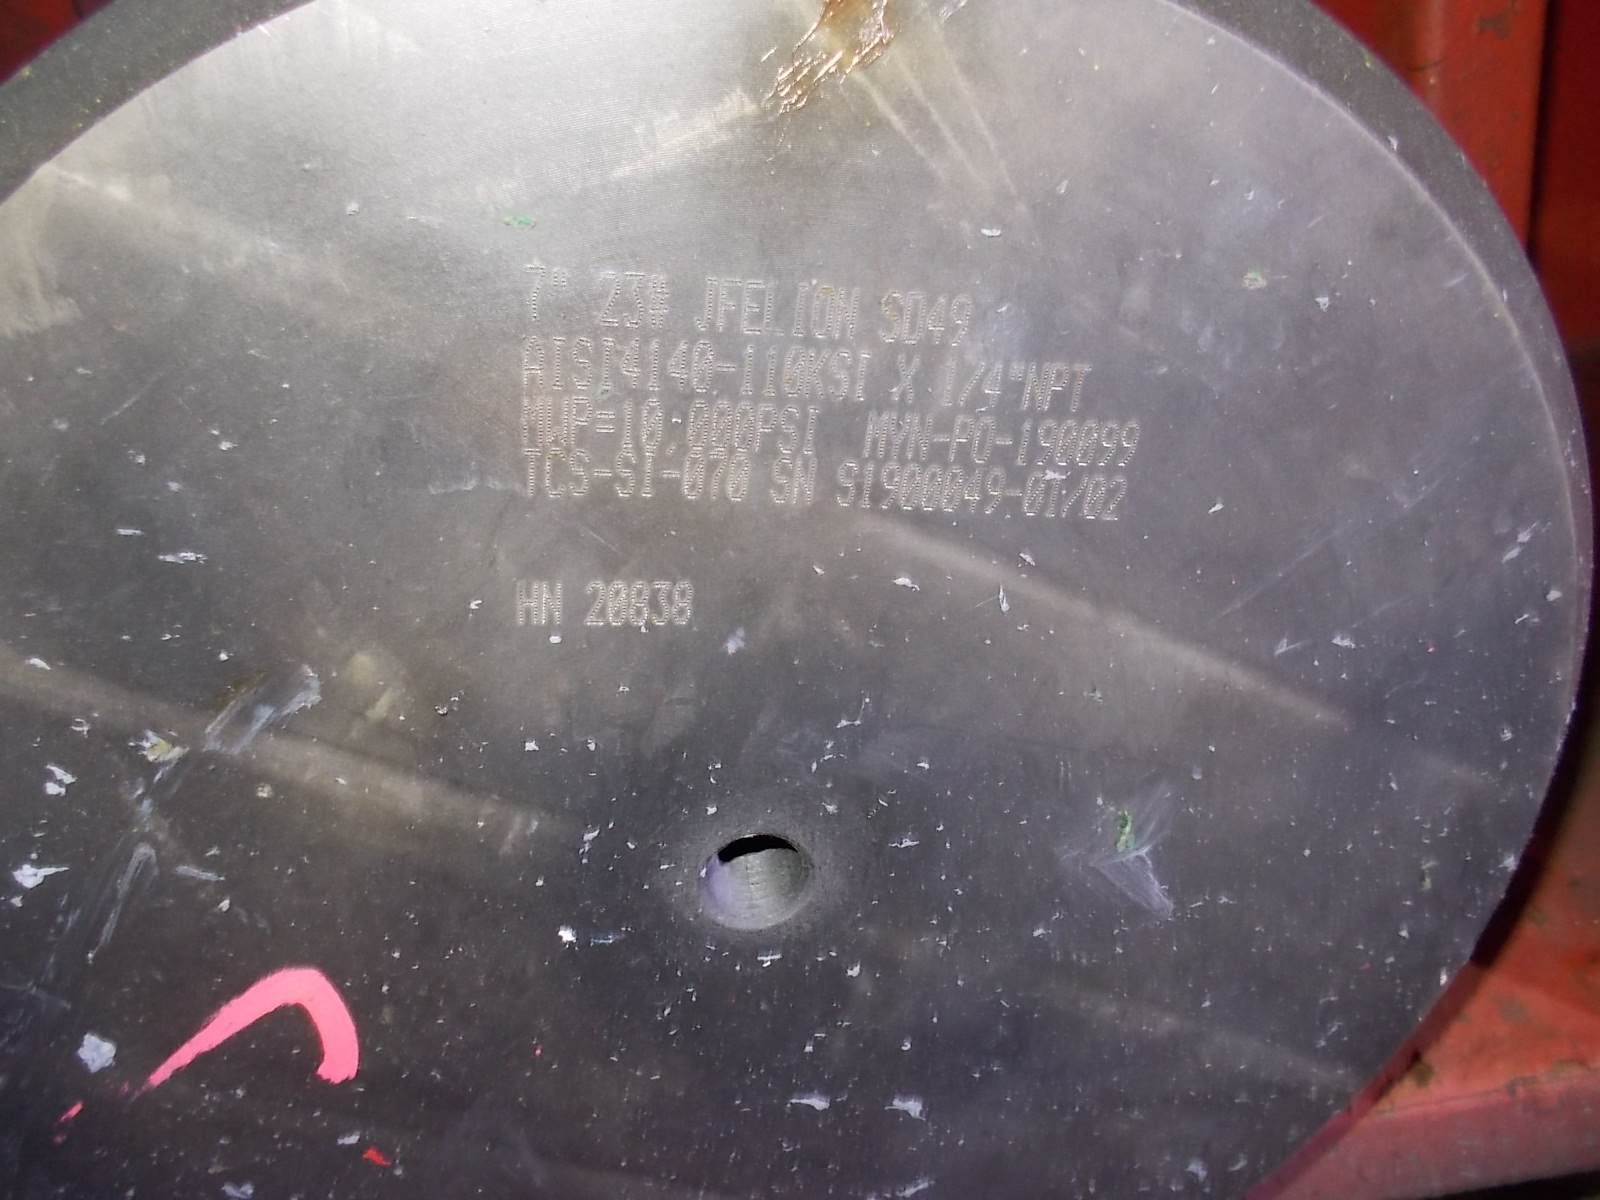character: (887, 350, 925, 408), (590, 267, 622, 329), (947, 287, 976, 355), (518, 332, 547, 392), (763, 276, 791, 339), (876, 284, 902, 349), (634, 395, 666, 447), (661, 338, 692, 395), (520, 261, 546, 326), (690, 270, 716, 335), (716, 274, 742, 335), (837, 284, 863, 345), (809, 284, 837, 342), (970, 413, 1000, 466), (859, 408, 889, 460), (648, 270, 673, 332), (1068, 361, 1096, 416), (792, 456, 821, 509), (1019, 359, 1048, 412), (569, 332, 593, 395), (622, 270, 648, 329), (1060, 473, 1090, 522), (902, 287, 926, 349), (926, 287, 947, 355), (619, 335, 643, 396), (1101, 475, 1131, 523), (543, 395, 569, 449), (517, 397, 544, 449), (580, 579, 607, 630), (850, 350, 876, 407), (595, 335, 619, 395), (742, 274, 763, 339), (1117, 420, 1145, 470), (547, 332, 569, 392), (567, 449, 593, 500), (767, 455, 794, 507), (1073, 417, 1100, 469), (828, 350, 853, 405), (671, 579, 697, 633), (727, 453, 755, 502), (956, 359, 984, 408), (1032, 417, 1060, 466), (1044, 361, 1070, 413), (834, 459, 859, 512), (614, 446, 637, 502), (758, 342, 781, 400), (800, 405, 825, 456), (947, 413, 973, 465), (519, 447, 543, 502), (908, 412, 934, 463), (692, 338, 713, 397), (737, 340, 758, 400), (543, 449, 567, 502), (682, 451, 706, 504), (981, 466, 1005, 519), (649, 579, 673, 632), (514, 579, 539, 628), (781, 348, 805, 400), (805, 348, 829, 400), (755, 402, 779, 454), (706, 453, 729, 504), (569, 395, 591, 451), (900, 463, 922, 516), (944, 466, 968, 516), (539, 579, 563, 628), (1023, 469, 1046, 521), (984, 359, 1005, 413), (791, 276, 809, 342), (732, 402, 755, 453), (889, 410, 912, 460), (711, 400, 732, 453), (1054, 413, 1076, 466), (922, 463, 944, 516), (627, 579, 649, 632), (1097, 420, 1119, 471), (690, 398, 711, 453), (879, 461, 900, 516), (779, 405, 800, 454), (637, 446, 656, 502), (607, 579, 627, 630), (1083, 475, 1106, 521), (644, 337, 661, 395), (859, 461, 879, 512), (937, 355, 956, 408), (963, 466, 981, 519), (1046, 471, 1063, 521), (547, 263, 571, 296), (1015, 418, 1031, 469), (593, 408, 617, 440), (619, 398, 634, 447), (656, 464, 682, 483), (1007, 357, 1022, 383), (716, 361, 737, 378), (591, 466, 614, 482), (931, 434, 951, 447), (1003, 487, 1023, 500)
